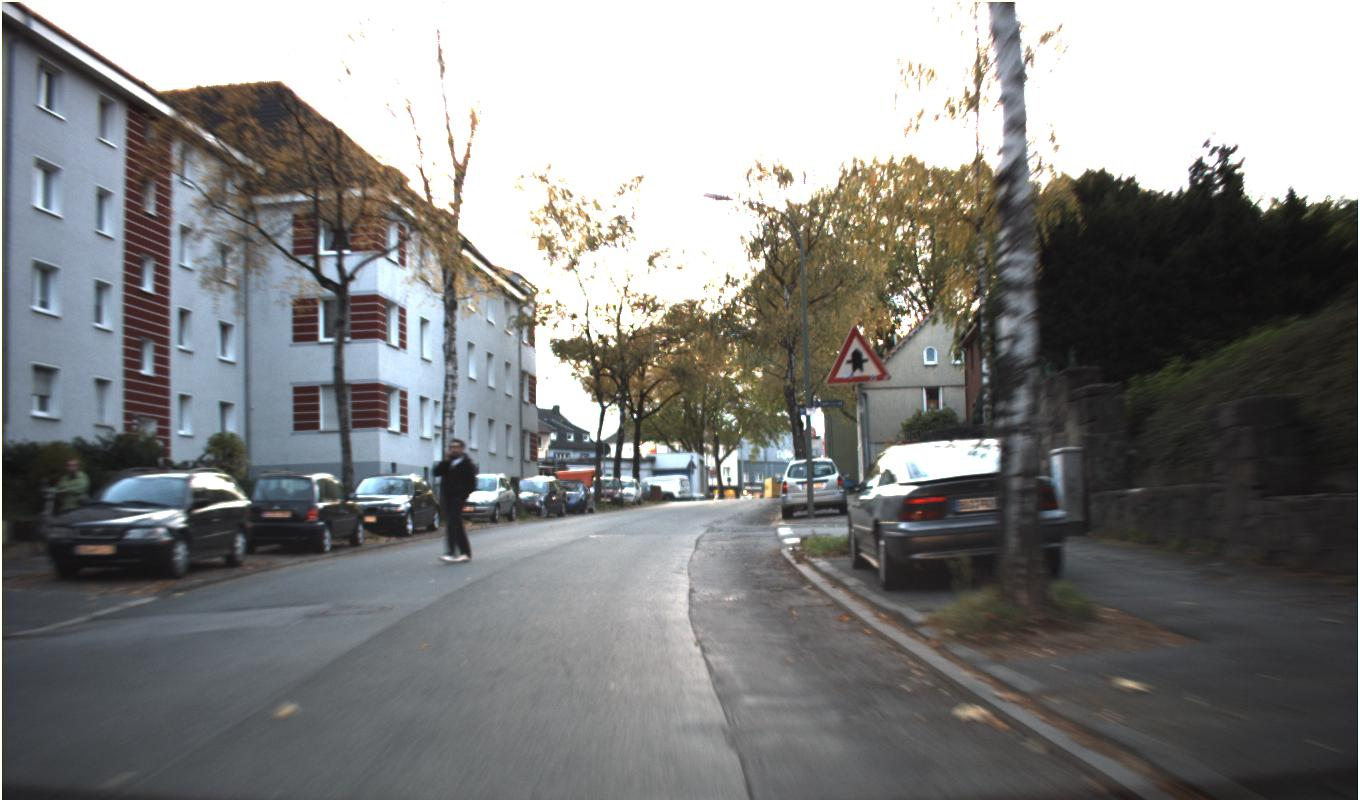danger: (824, 324, 892, 384)
